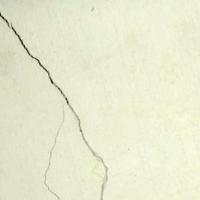crack: (0, 7, 118, 199)
